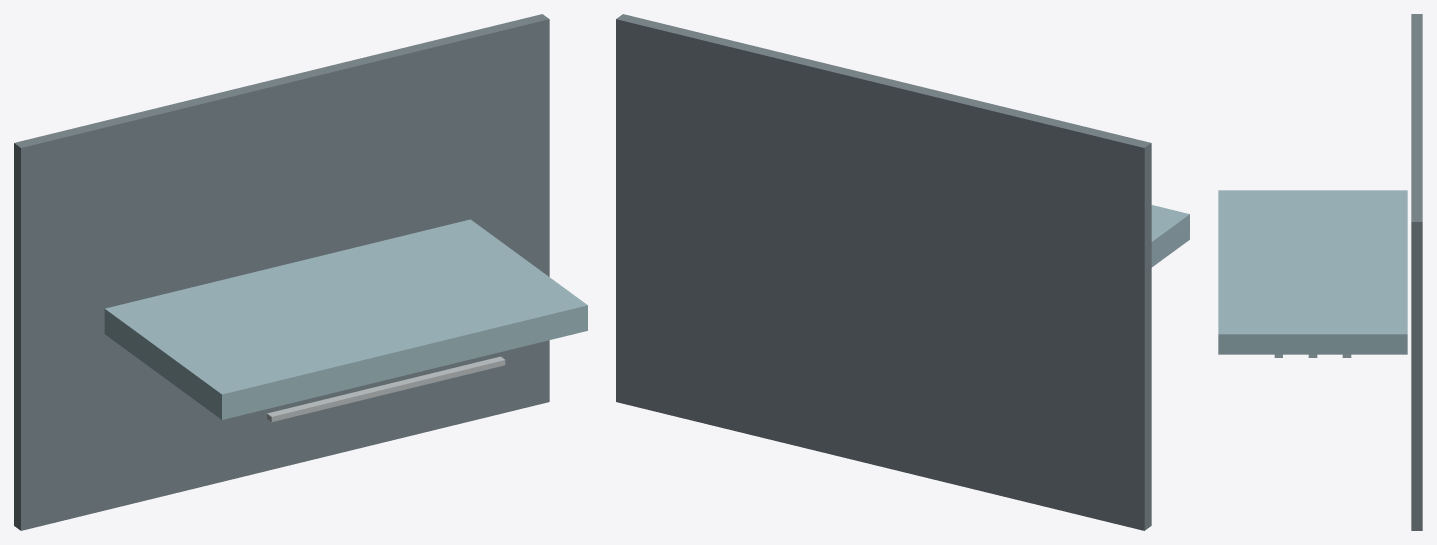
Rendered from surgical-mask-high.glb.
3 renders of one model, left to right at view 1: azimuth 30°, elevation 25°; view 2: azimuth 150°, elevation 25°; view 3: azimuth 270°, elevation 25°, orthographic. The views are drawn at different scales.
Parts seen in each view (by area): view 1: presentation_base_detail, mask_body, nose_strip_detail; view 2: presentation_base_detail, mask_body; view 3: mask_body, presentation_base_detail.
Part boxes in pixels (bbox=[...]): presentation_base_detail: bbox=[14, 14, 549, 530]; mask_body: bbox=[104, 219, 587, 419]; nose_strip_detail: bbox=[267, 356, 505, 421]; presentation_base_detail: bbox=[616, 14, 1151, 530]; mask_body: bbox=[1151, 205, 1189, 267]; mask_body: bbox=[1218, 190, 1407, 354]; presentation_base_detail: bbox=[1411, 14, 1422, 530].
Size of the model in its own units: 2.6 by 1.8 by 1.08.
